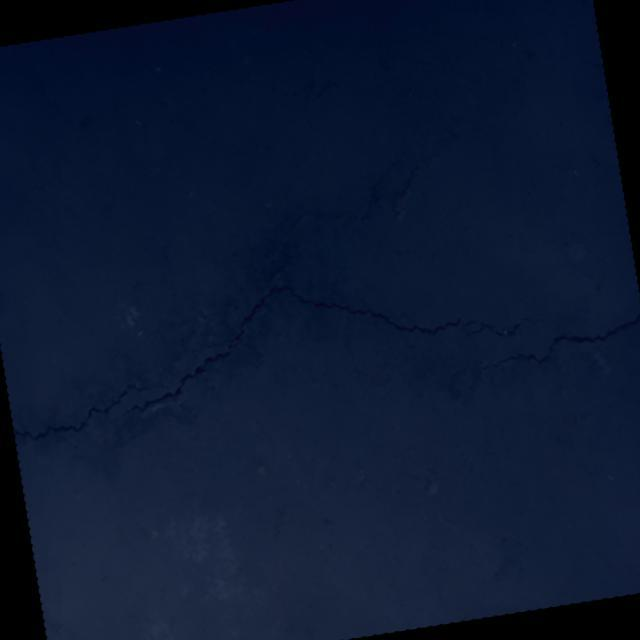crack: (96, 200, 551, 418), (446, 313, 640, 378), (282, 149, 416, 232), (10, 378, 164, 443), (372, 23, 400, 104)
